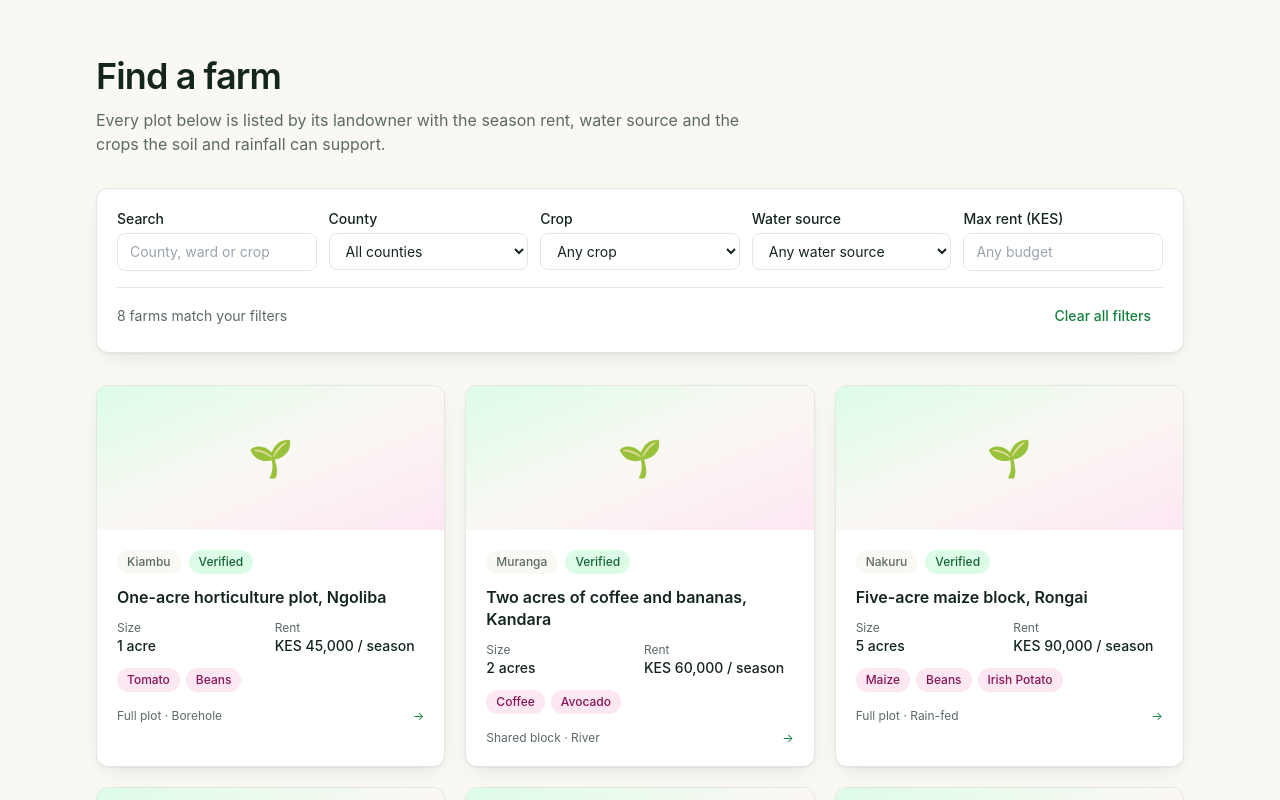
Test case: BrowseFarms › names the county when a county has no farms
Note: Turkana has no seed farm listings.
Select "Turkana" in the dropdown labelled "County" at (428, 252), box [329,233,528,270]
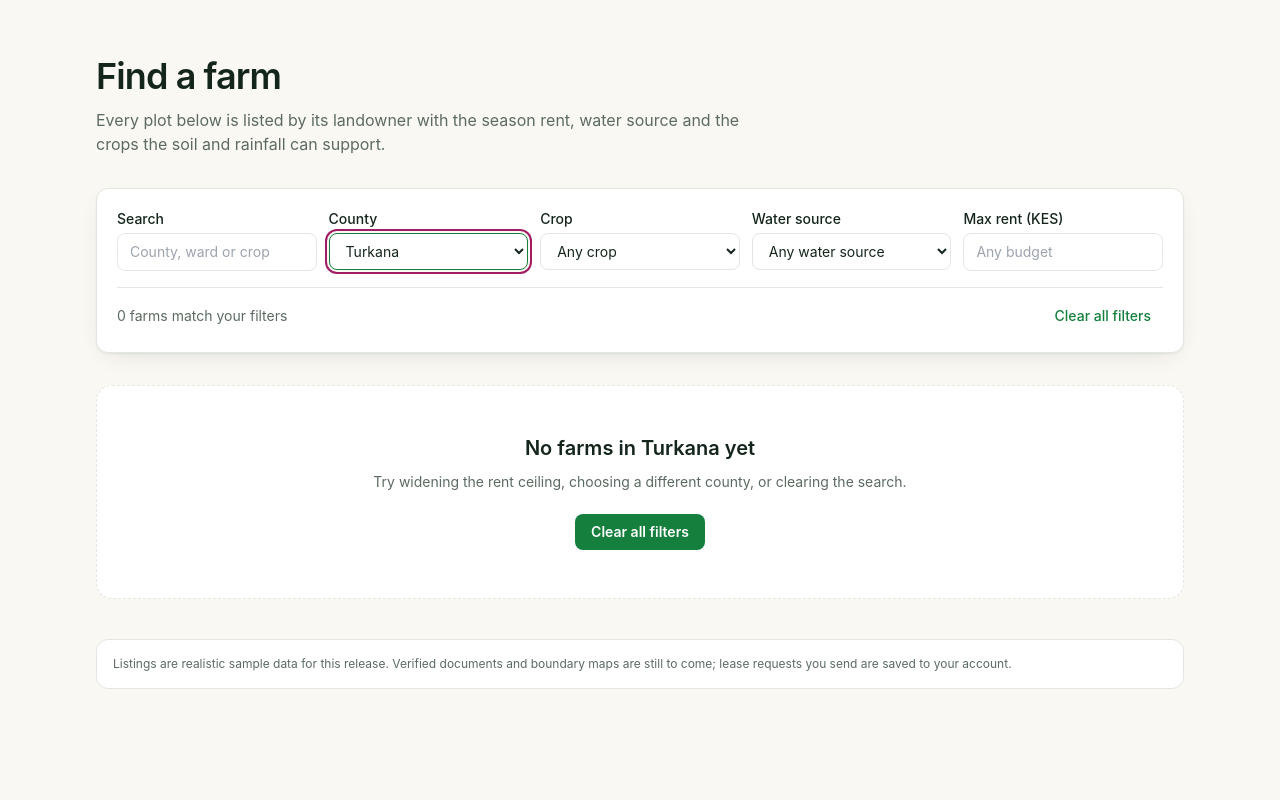
Now the heading "No farms in Turkana yet" is shown, box [525,436,755,460]
